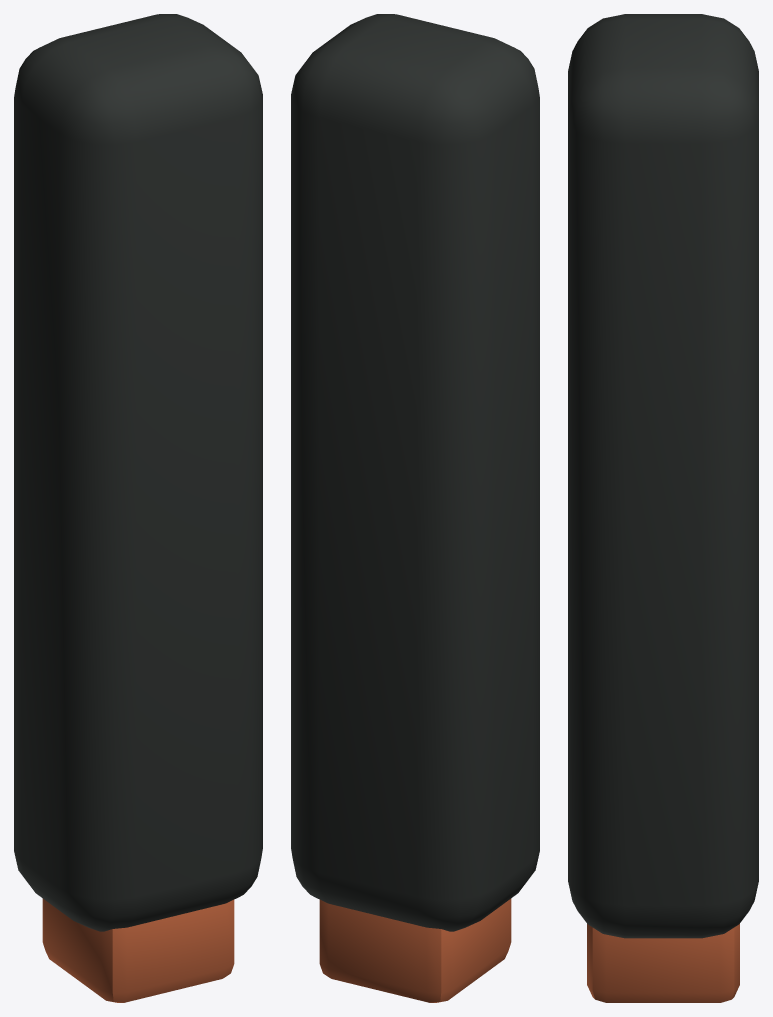
The model's file is corded_drill_direction_switch.glb.
3 views of the same model, side by side, from view 1: azimuth 30°, elevation 25°; view 2: azimuth 150°, elevation 25°; view 3: azimuth 270°, elevation 25° (orthographic).
Visible parts, largest first — view 1: corded_drill_direction_switch; view 2: corded_drill_direction_switch; view 3: corded_drill_direction_switch.
Boxes of the visible parts, <box> form: corded_drill_direction_switch: <box>14,14,262,1002</box>; corded_drill_direction_switch: <box>291,14,539,1002</box>; corded_drill_direction_switch: <box>568,14,758,1002</box>.
Size of the model in its own units: 0.012 by 0.054 by 0.01.
